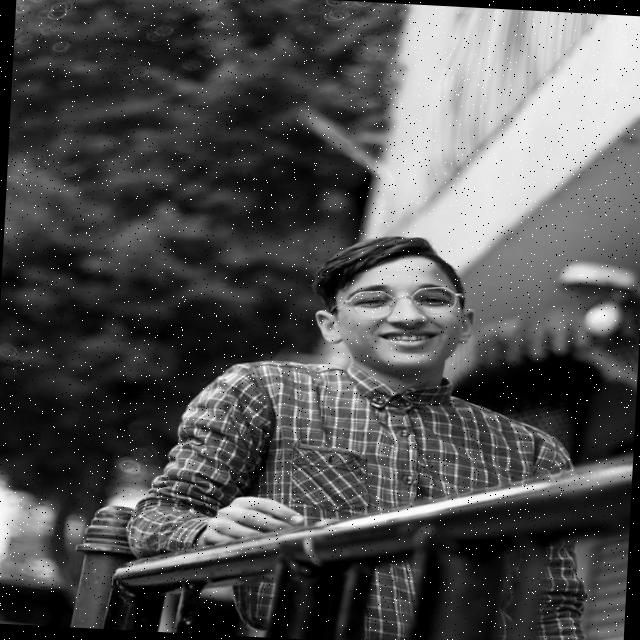Happiness: (329, 249, 474, 380)
